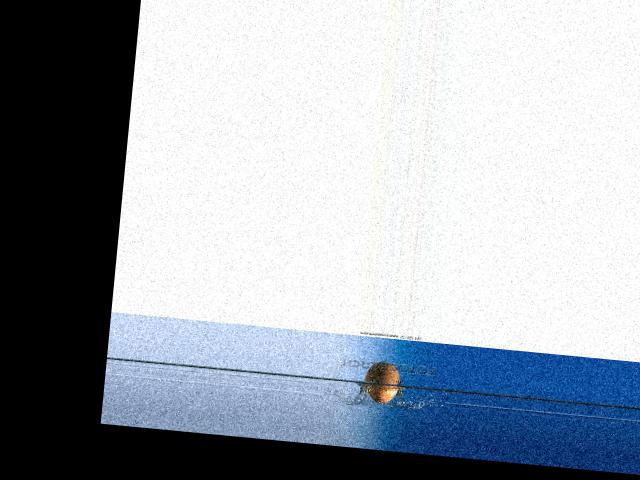egg: (362, 360, 401, 404)
